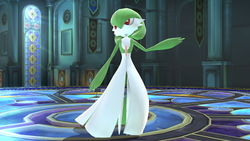gardevoir: (68, 7, 185, 137)
